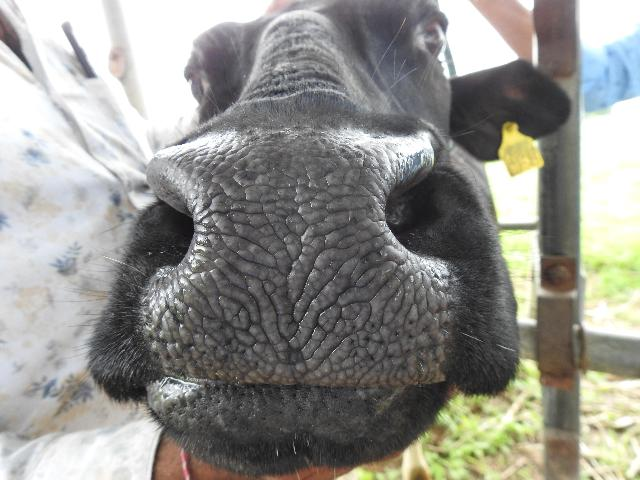Muzzle: (202, 152, 372, 370)
